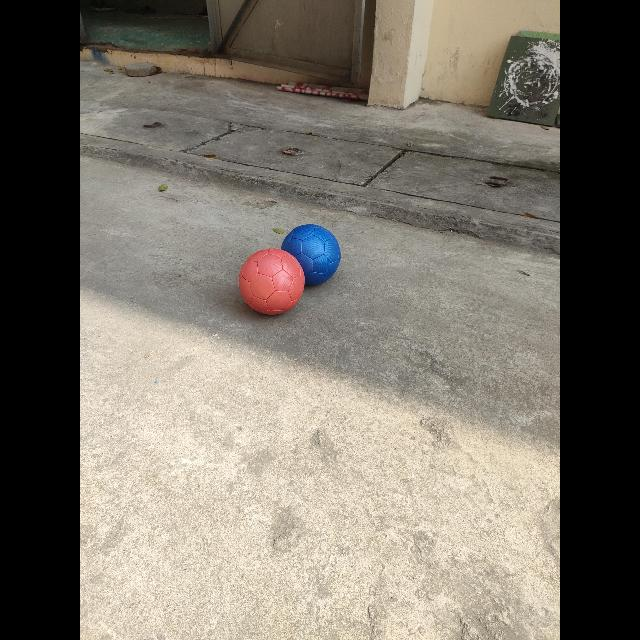B: (281, 224, 340, 285)
R: (239, 249, 305, 315)
